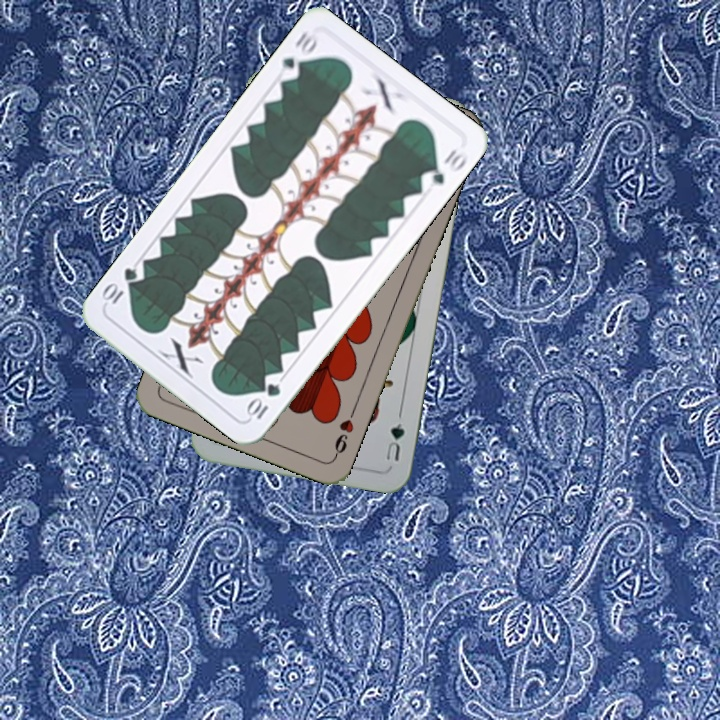G10: (274, 25, 322, 84), (241, 379, 284, 422)
GU: (381, 419, 407, 464)
H9: (330, 404, 359, 461)
